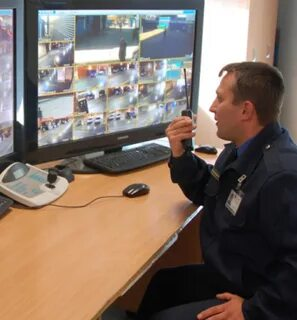awake: (154, 61, 297, 319)
